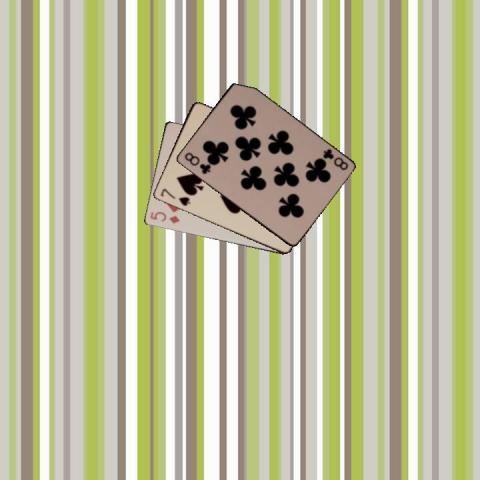5d: (146, 208, 180, 224)
7s: (157, 186, 192, 207)
8c: (320, 145, 350, 172), (181, 150, 212, 176)
